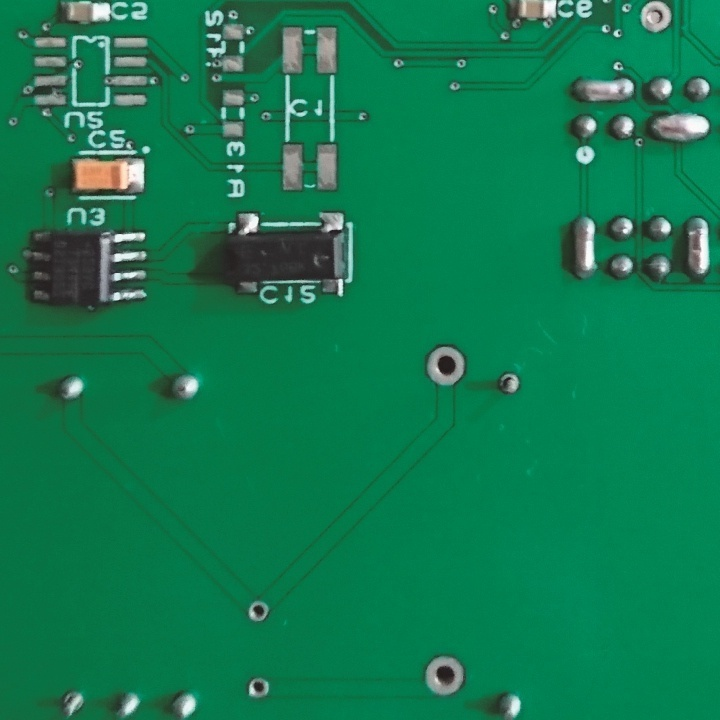F: (421, 343, 468, 391), (421, 654, 467, 701), (638, 1, 674, 38), (57, 689, 87, 720), (495, 368, 519, 398), (245, 677, 271, 700), (245, 600, 270, 623)
P: (644, 111, 714, 146), (680, 213, 713, 285), (568, 74, 639, 106), (570, 212, 599, 281)
